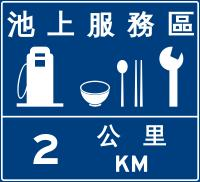Petrol Pump- Gas Station: (10, 44, 71, 113)
